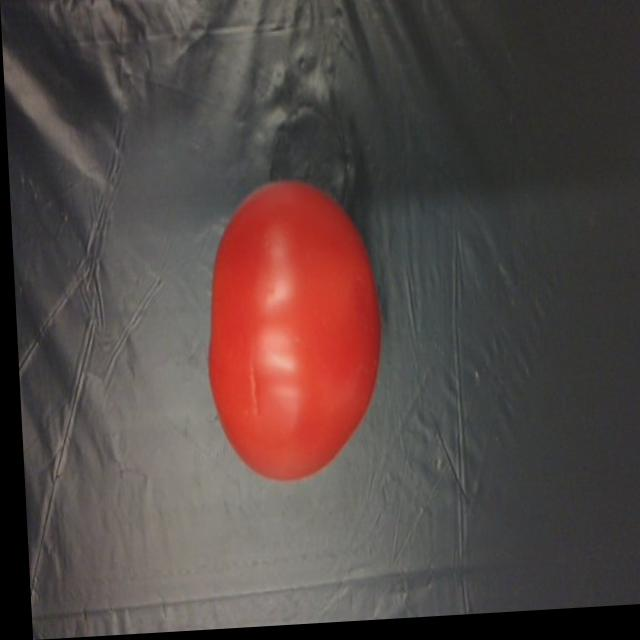kirmizi: (192, 181, 393, 484)
